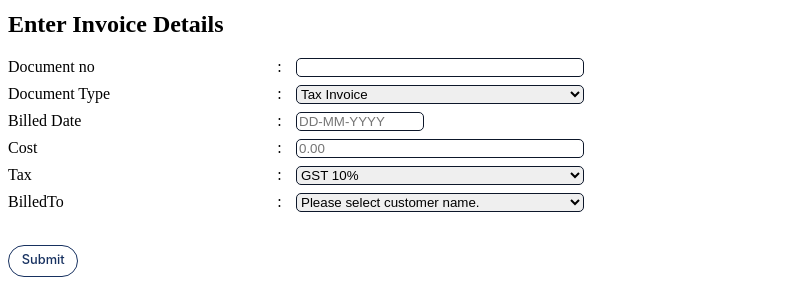
it: Invoices Component: Form › Renders "Error Message" where user submits a blank Document No
Click the button. click: (43, 261)
box: [8,245,78,277]
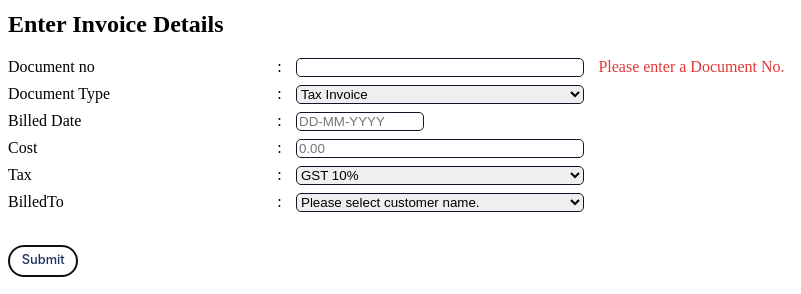
Expected: the text "Please enter a Document No." is shown, [598,58,785,75]
